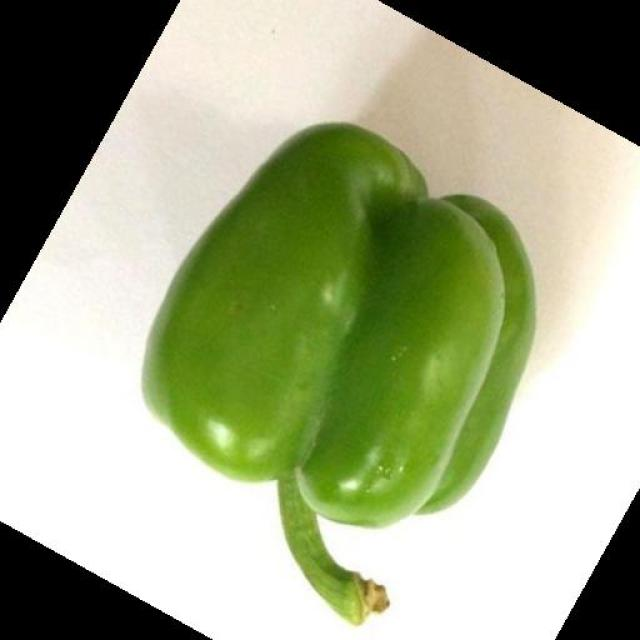Fresh_Capsicum: (140, 104, 574, 614)
